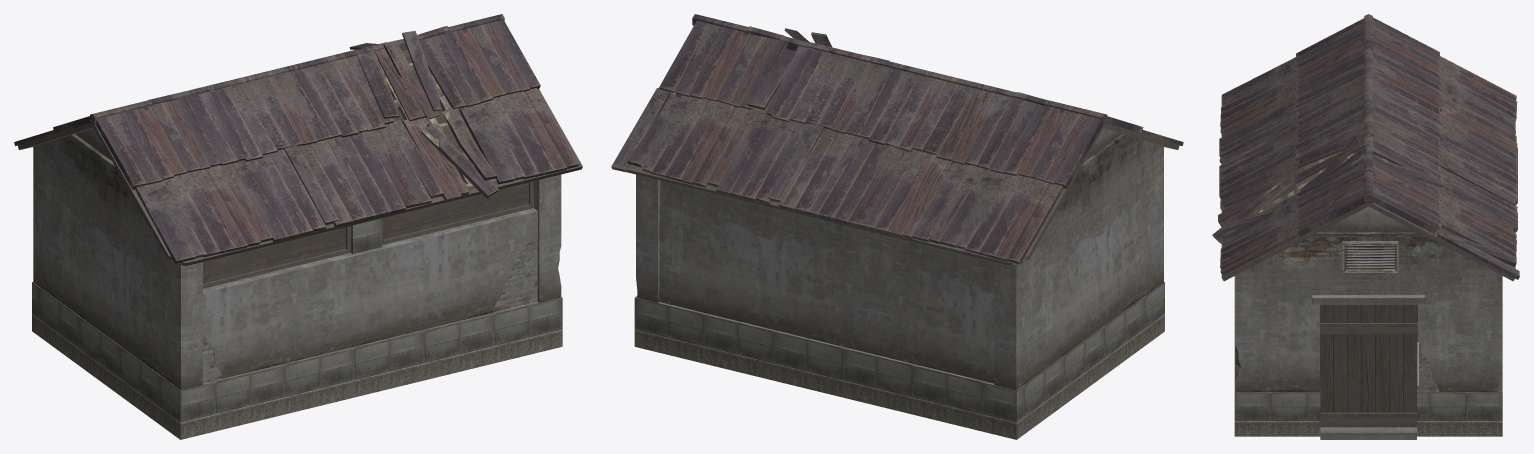
Rendered from Cemetery_STR_House_02.fbx.
3 views of the same model, side by side, from view 1: azimuth 30°, elevation 25°; view 2: azimuth 150°, elevation 25°; view 3: azimuth 270°, elevation 25° (orthographic). The views are drawn at different scales.
Visible parts, largest first — view 1: Cemetery_STR_House_02; view 2: Cemetery_STR_House_02; view 3: Cemetery_STR_House_02.
Boxes of the visible parts, x1=… form: Cemetery_STR_House_02: x1=14, y1=14, x2=582, y2=439; Cemetery_STR_House_02: x1=611, y1=14, x2=1183, y2=439; Cemetery_STR_House_02: x1=1212, y1=14, x2=1519, y2=439.
Bounding box in the file's own units: 558 × 367 × 402.
Materials: 2 (2 with a texture image).
